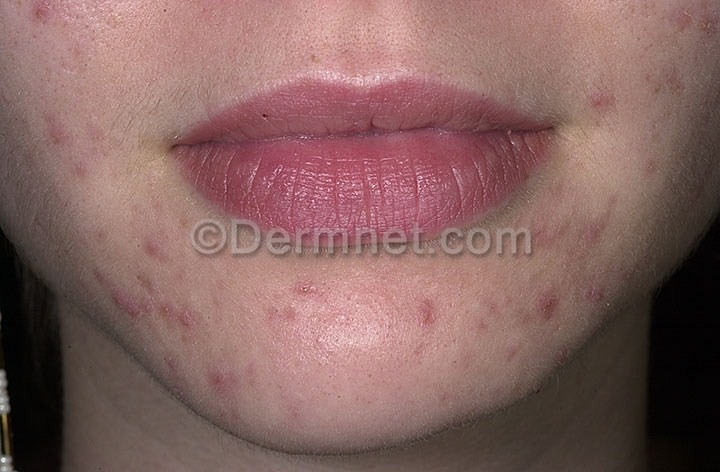Acne: (34, 228, 609, 411)
